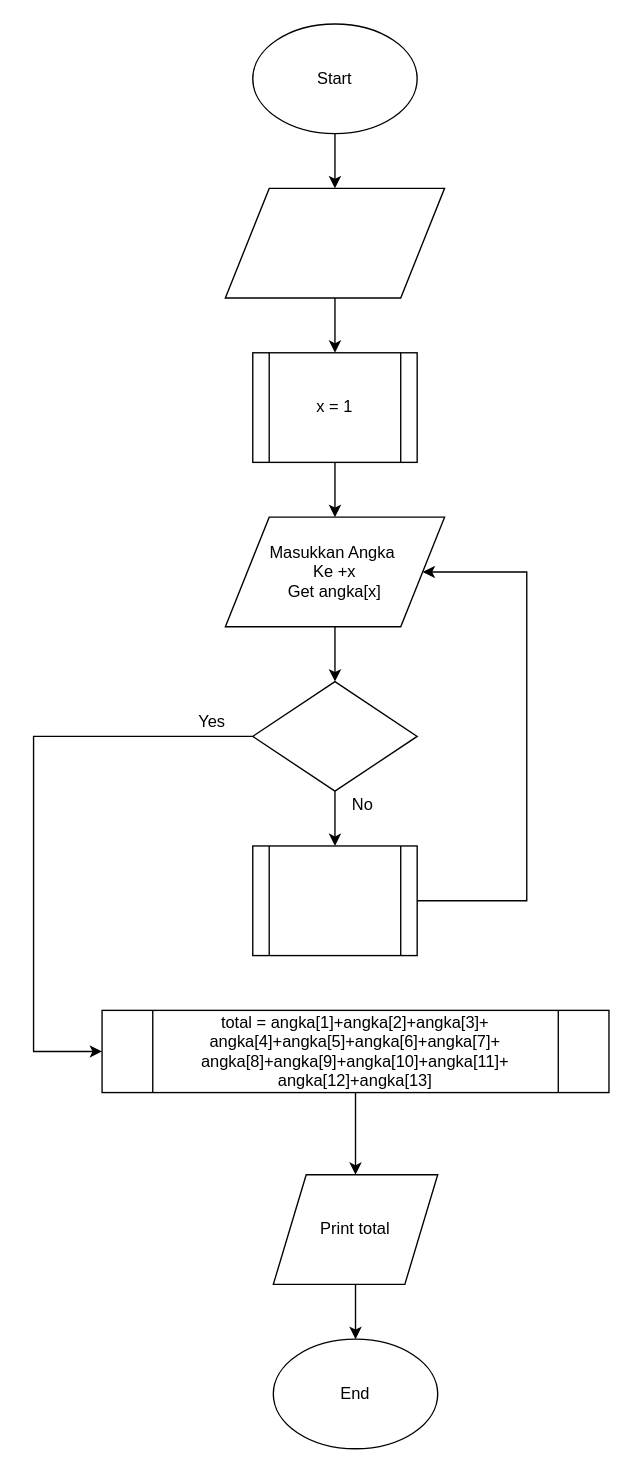
The diagram is 633 pixels wide and 1473 high, and some of its shapes have lost their labels. The centre of each missing label's shape, as x and y in pixels:
Masukkan Banyak Angka Get data: (x=334, y=242)
x = x + 1: (x=334, y=900)
x >= data: (x=334, y=735)
